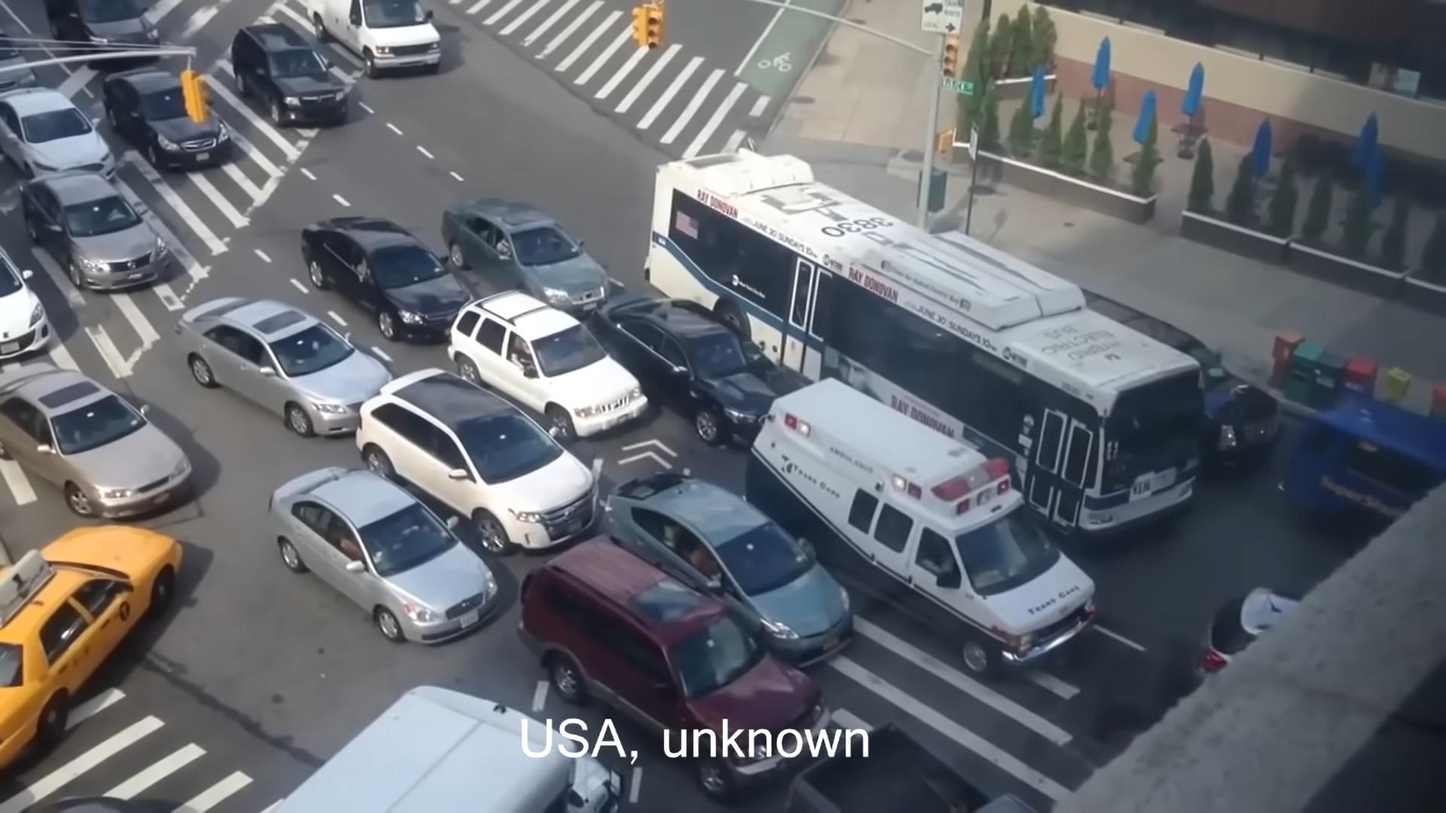AMBULANCE: (767, 364, 1107, 681)
